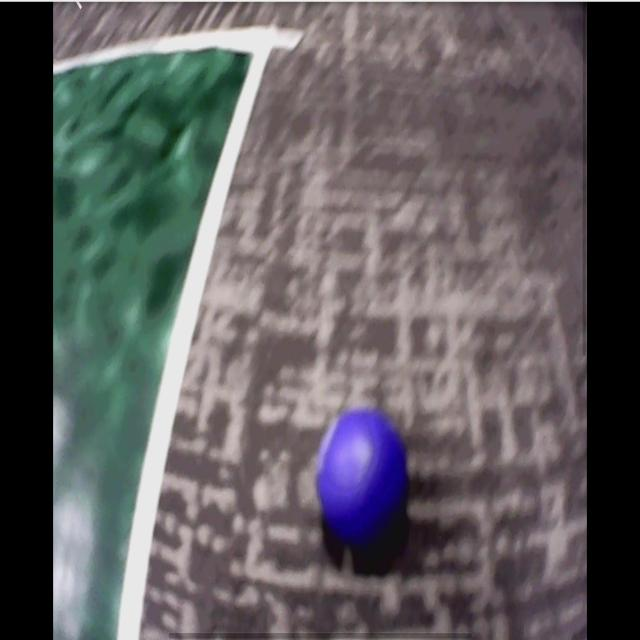ball: (318, 411, 406, 542)
